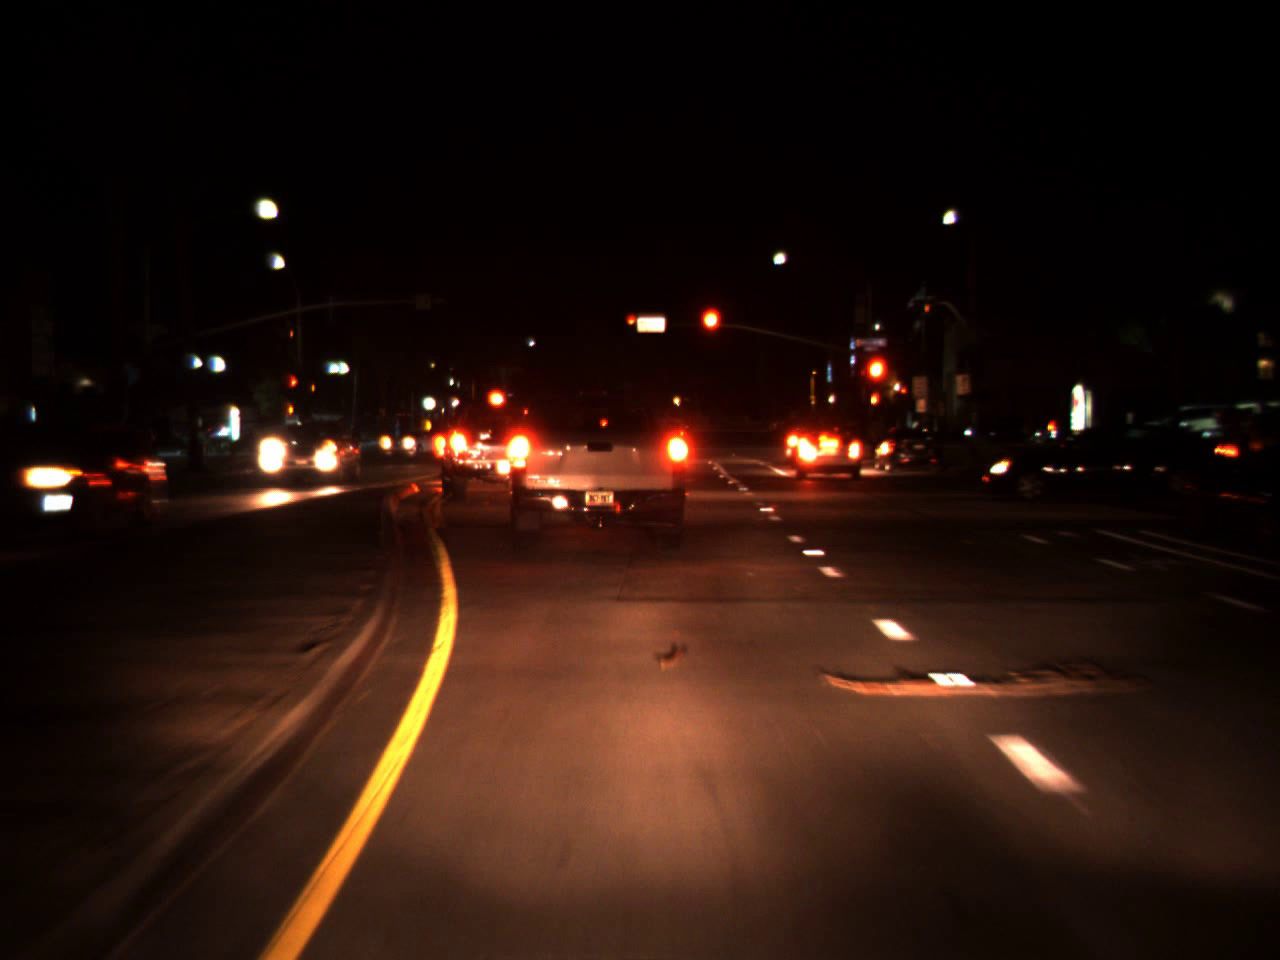stop: (862, 352, 892, 414), (697, 305, 724, 359), (626, 314, 638, 335), (289, 374, 298, 398)
